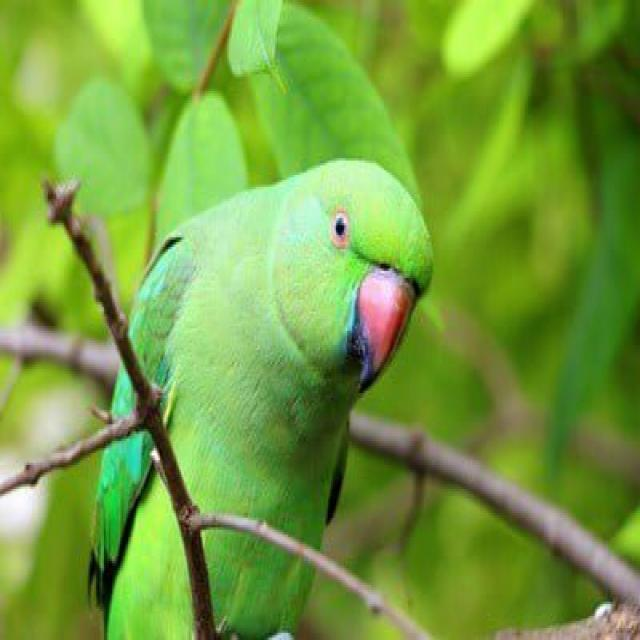parrot: (91, 161, 432, 638)
